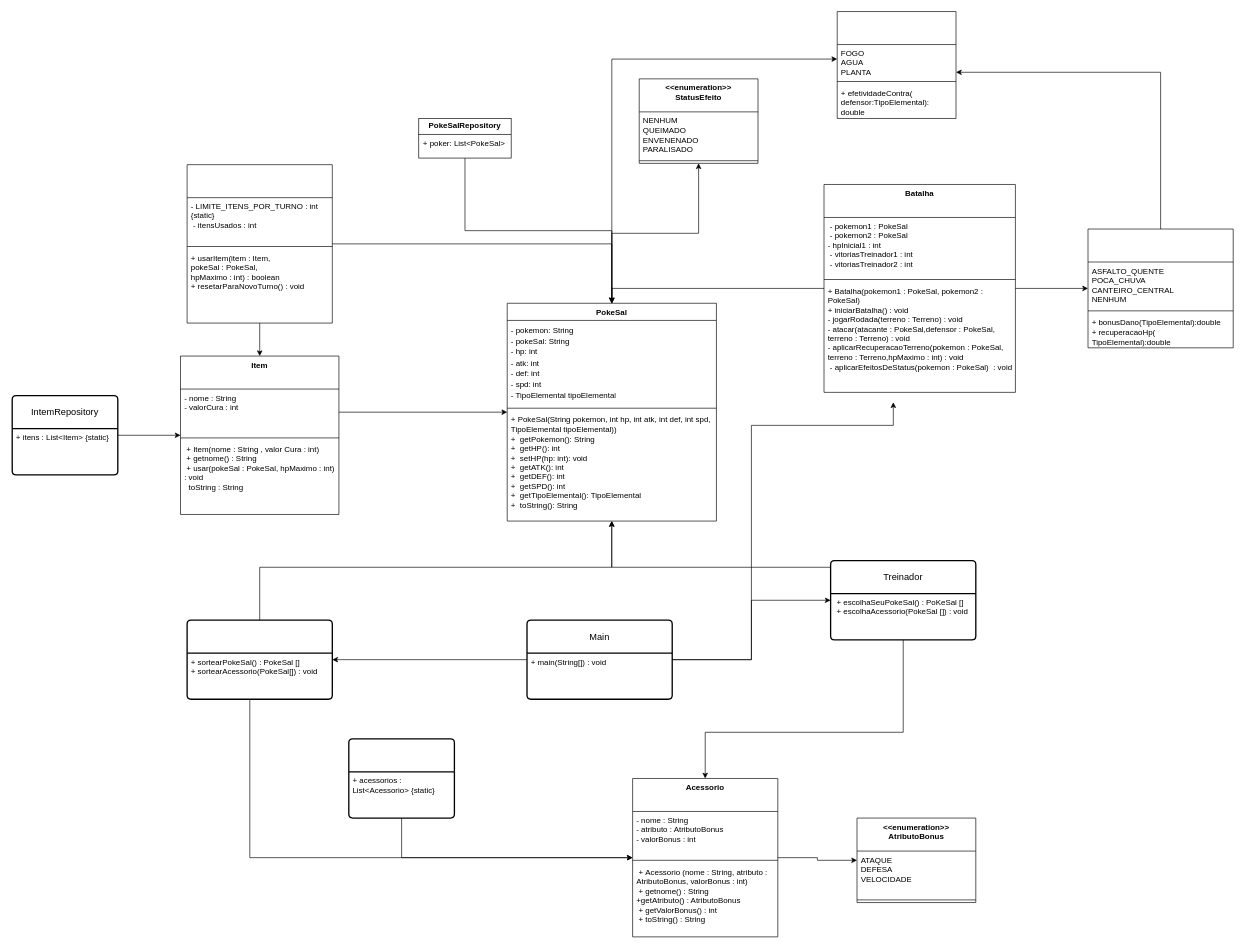
The diagram is 1245 pixels wide and 950 high, and some of its shapes have lost their labels. The box of each missing label's shape, as (x1, y1, x2, y2) in pixels:
<<enumeration>> Terreno: (1087, 228, 1233, 348)
<<enumeration>> TipoElemental: (837, 11, 956, 118)
AcessorioRepository: (348, 738, 455, 818)
Mochila: (186, 164, 332, 323)
ModoAleatorio: (186, 619, 333, 700)
